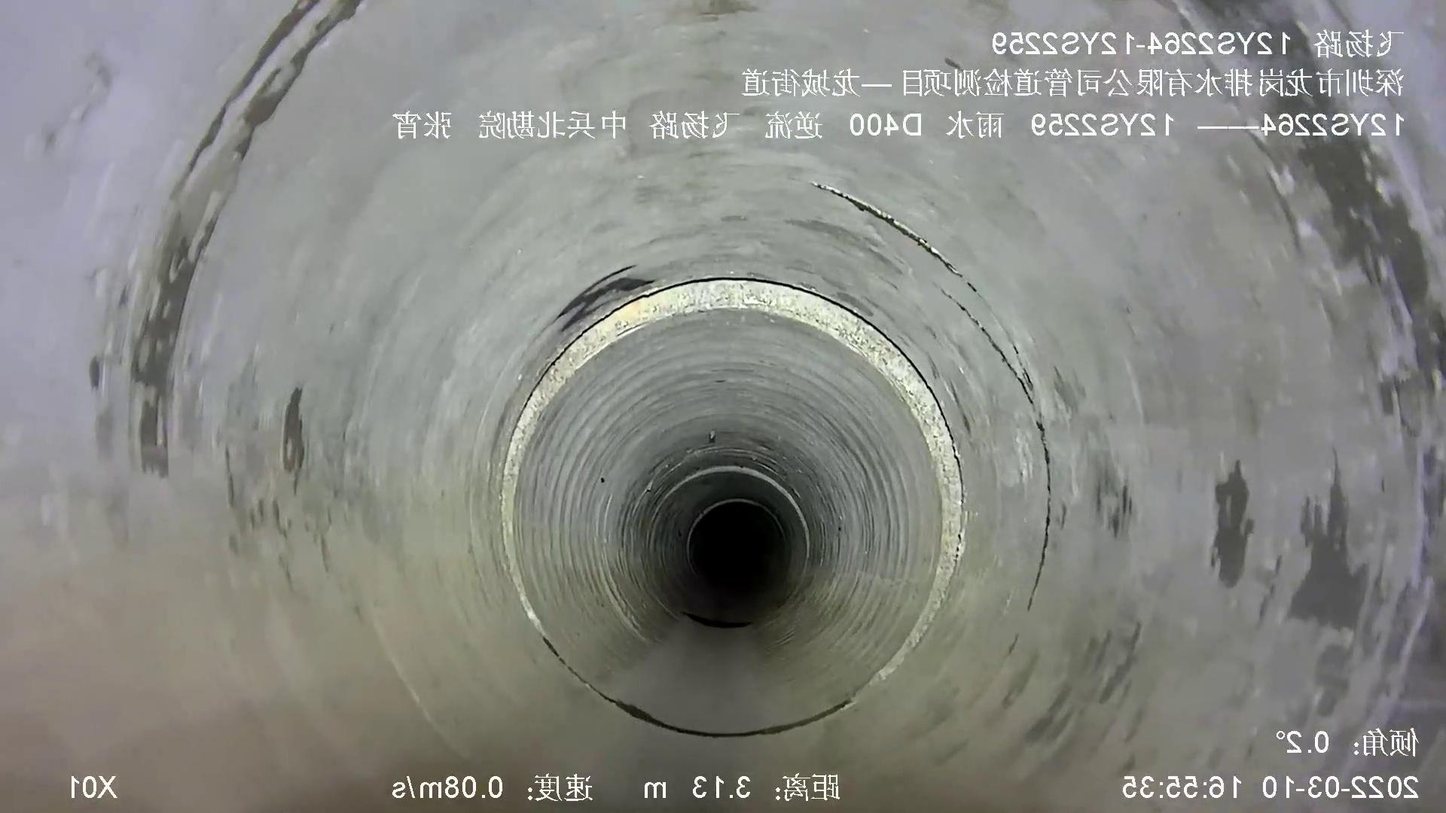CKTJ: (501, 279, 966, 690)
